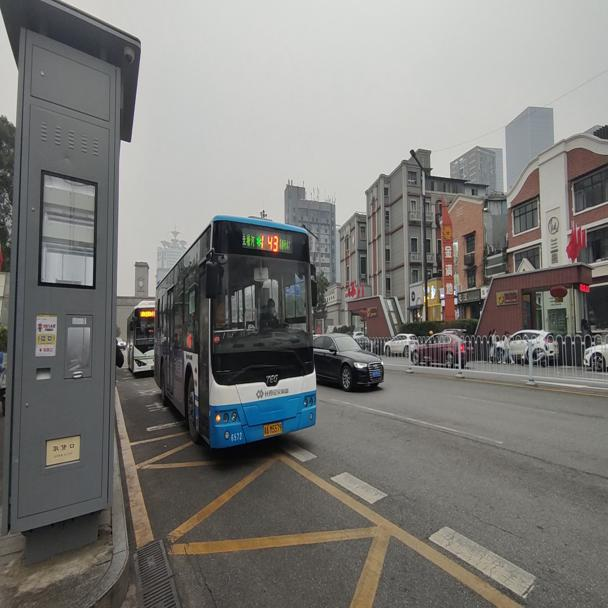bus: (153, 213, 318, 459), (126, 296, 153, 377)
screen: (259, 231, 280, 253)
